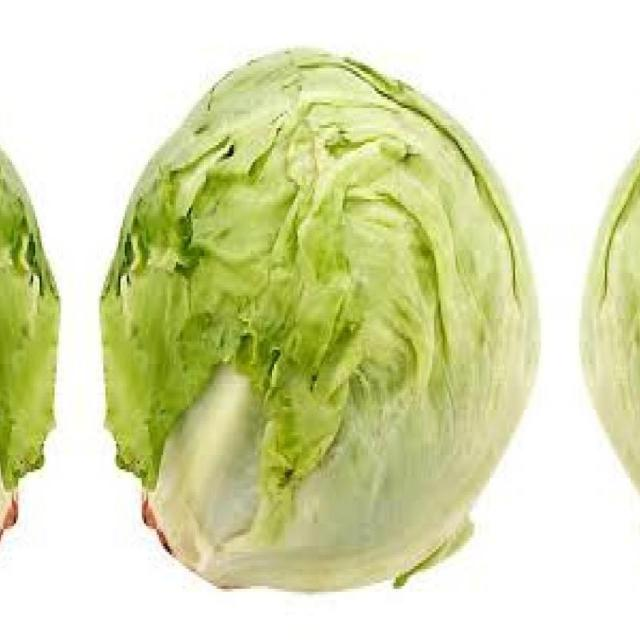healthy: (102, 46, 532, 598), (0, 45, 57, 598), (588, 45, 640, 598)
